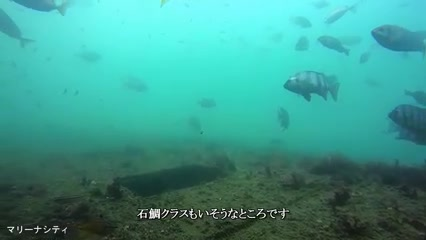ishidai: (283, 72, 346, 106)
